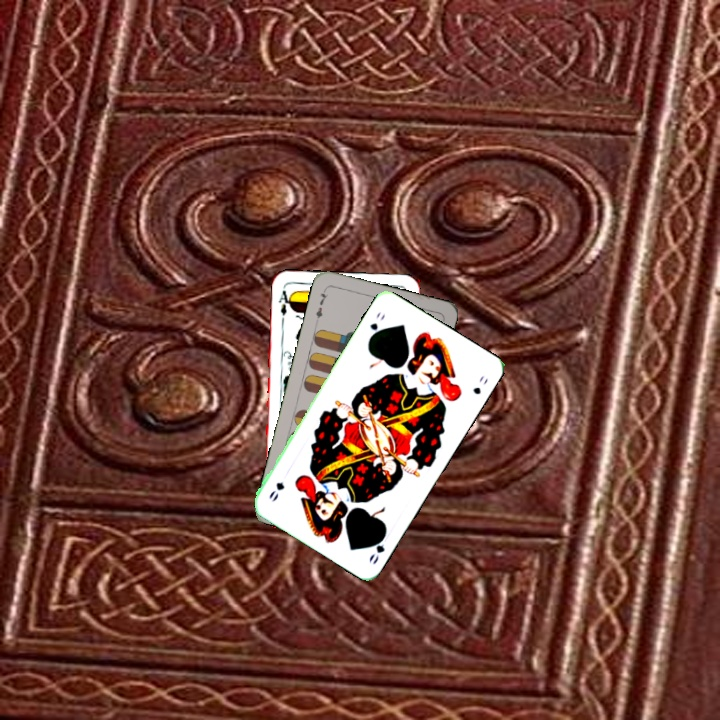E7: (311, 285, 331, 325)
EA: (275, 286, 294, 318)
GO: (365, 528, 389, 567), (365, 308, 388, 343)
